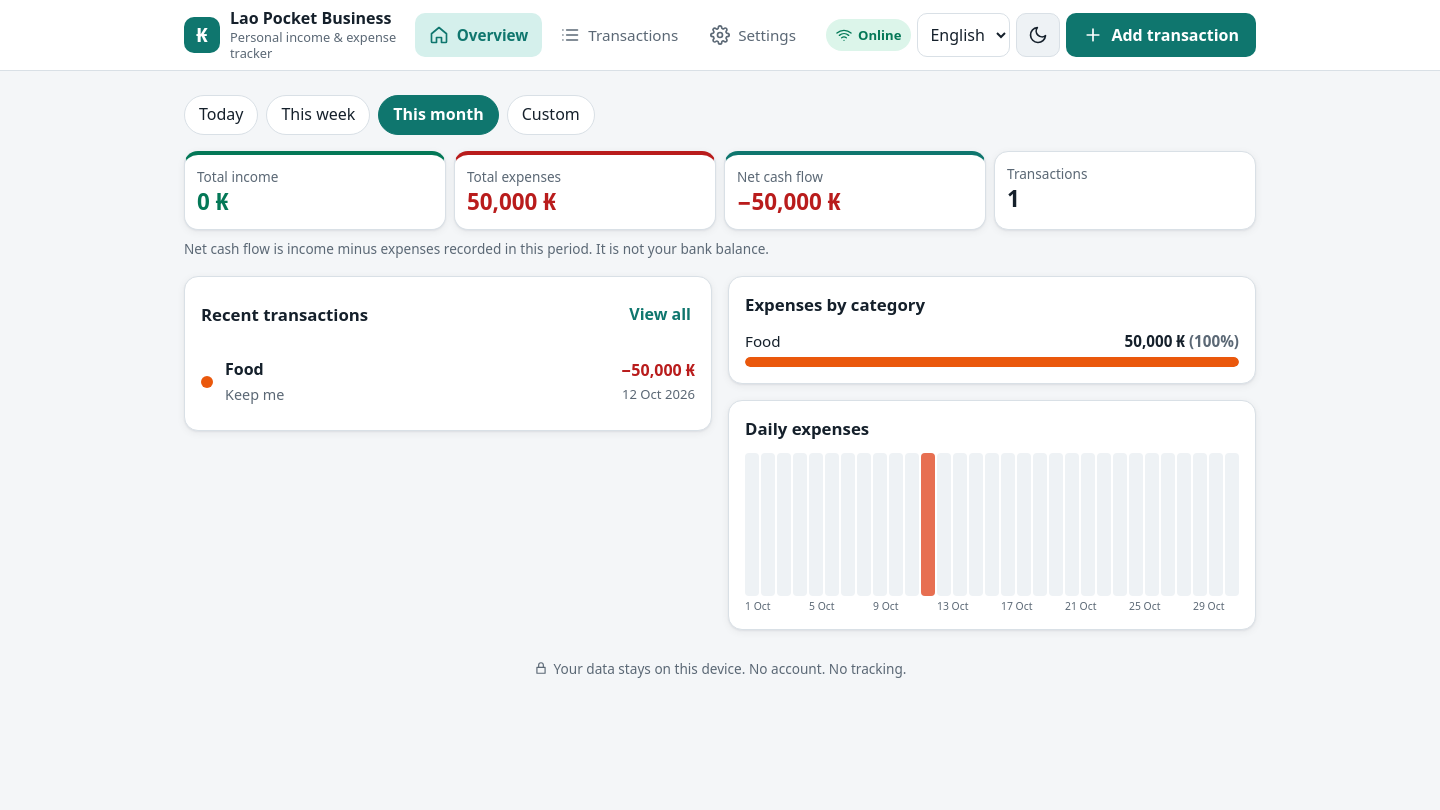
H1: a failed save is never shown as saved › deleting: an error is shown and the record is kept
Step 1. Click the button "Food Keep me −50,000 ₭ 12 Oct 2026" → click(244, 369), box [193, 349, 703, 414]
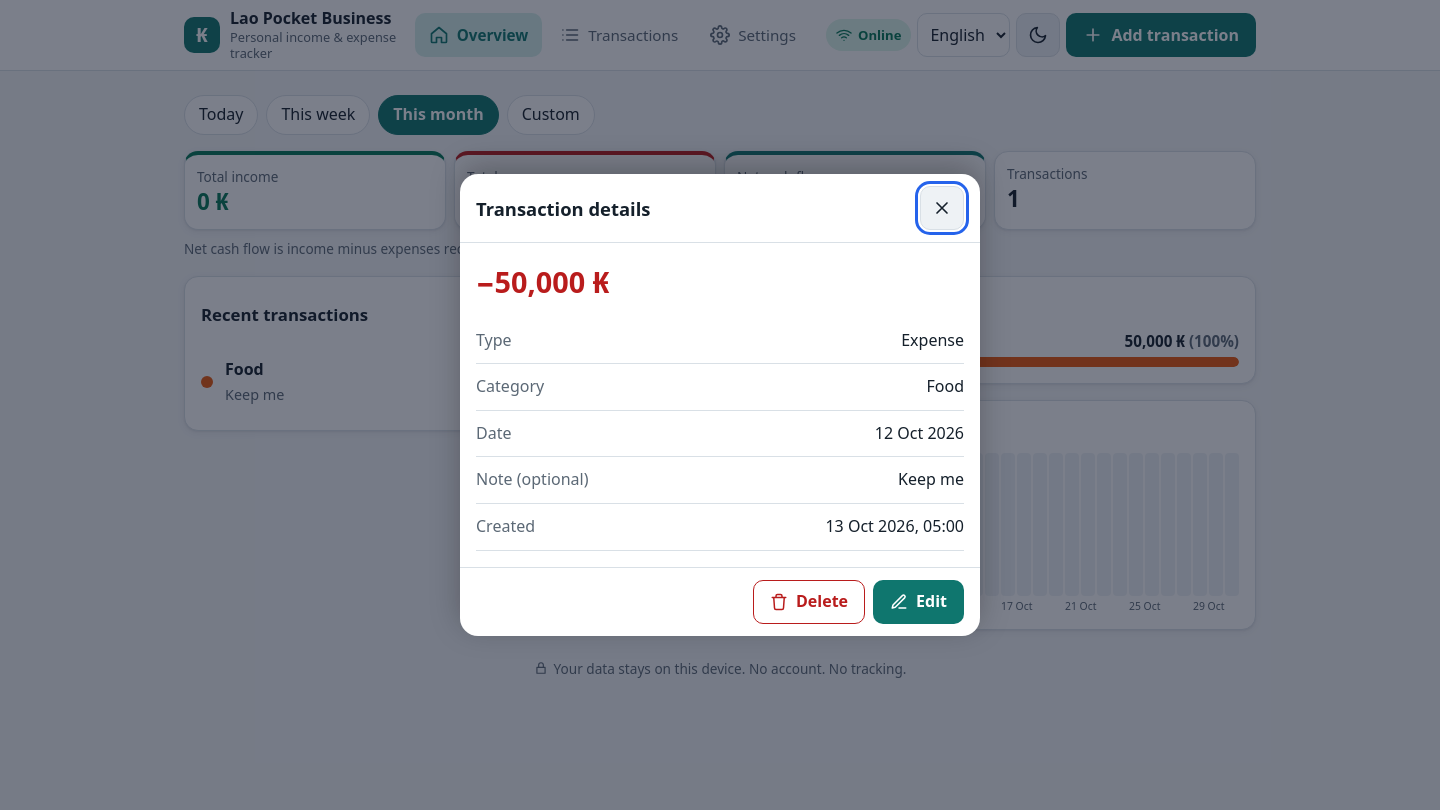
Step 2. Click the button "Delete" → click(809, 602), box [753, 580, 865, 624]
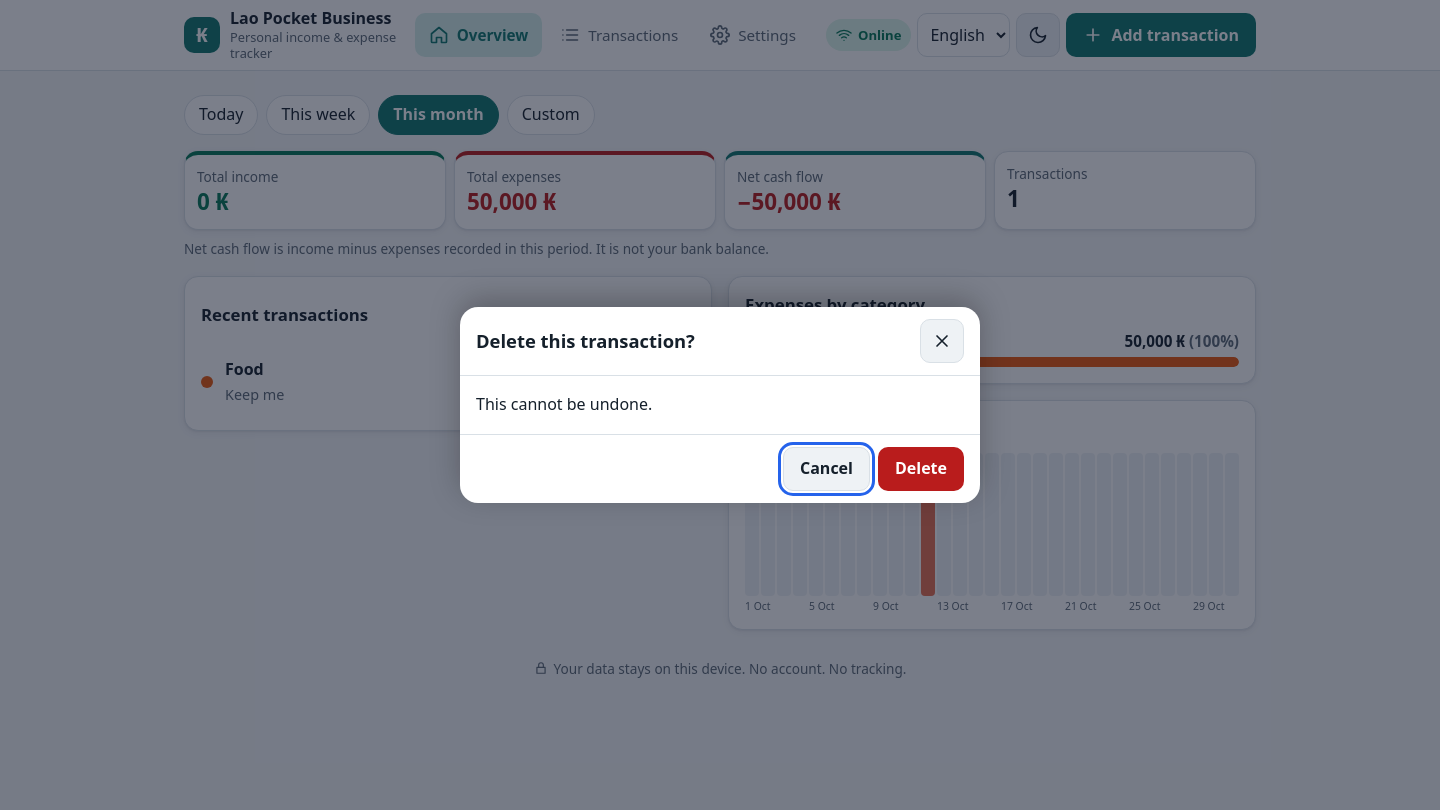
Step 3. Click the button "Delete" → click(921, 469), box [878, 447, 964, 491]
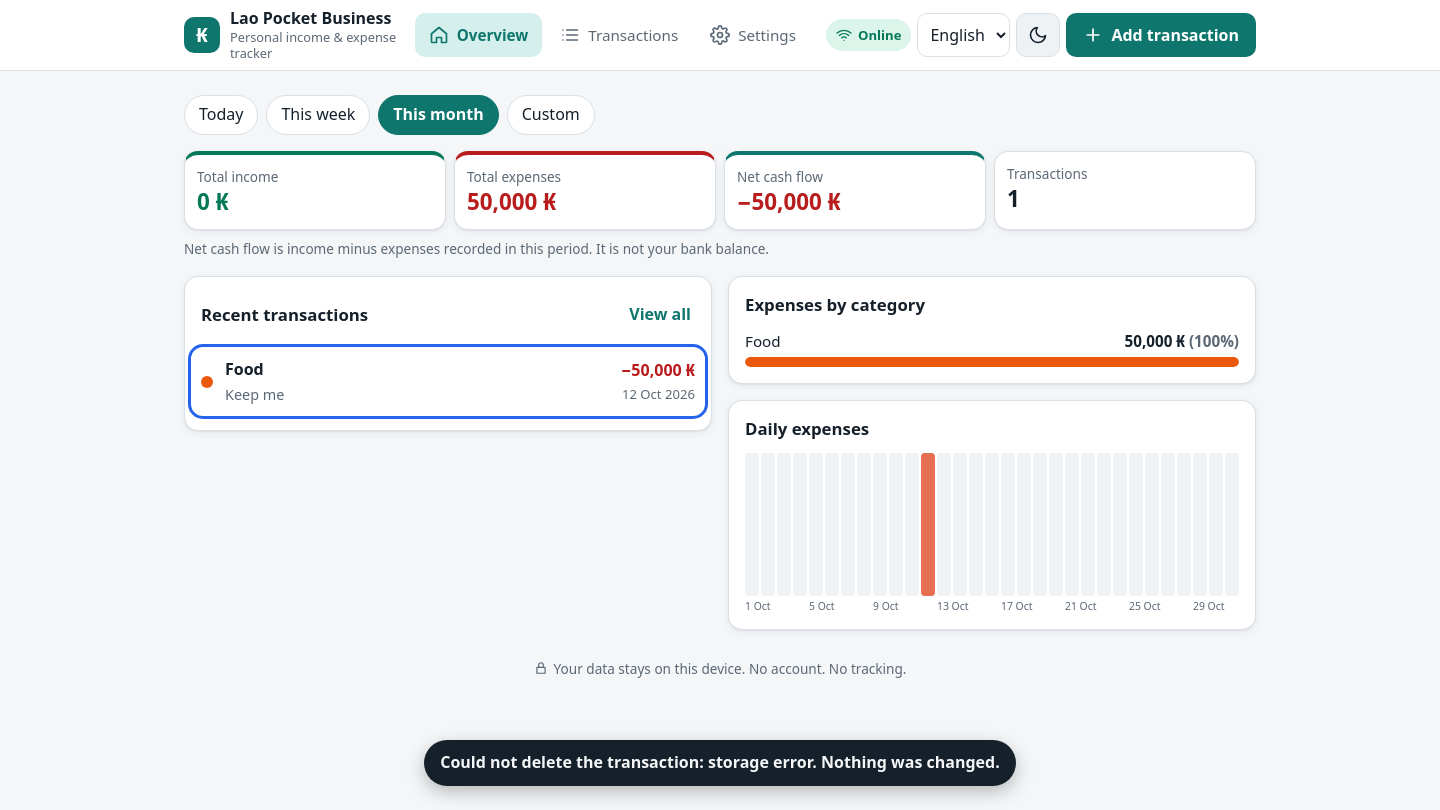
Check: the text "Keep me" is shown, box [225, 385, 284, 404]
Check: the text "Could not delete the transaction: storage error. Nothing was changed." is shown, box [424, 740, 1016, 786]
